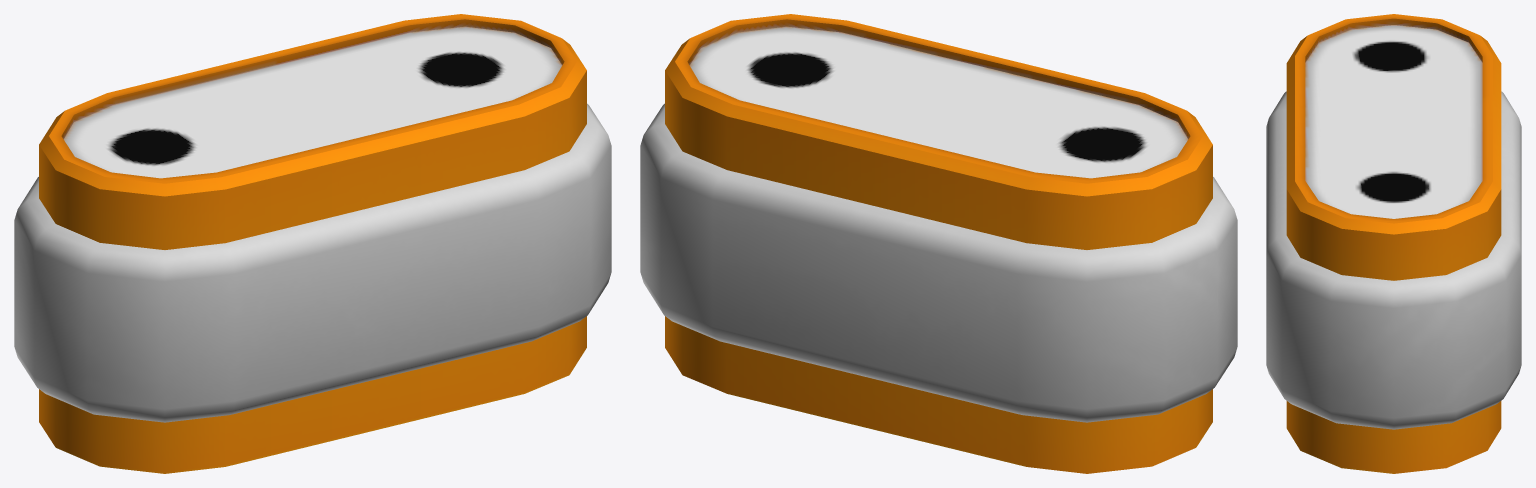
Rendered from block_round_corners.fbx.
The picture shows the model from 3 angles, left to right: view 1: azimuth 30°, elevation 25°; view 2: azimuth 150°, elevation 25°; view 3: azimuth 270°, elevation 25°; orthographic projection. The views are drawn at different scales.
Parts seen in each view (by area): view 1: block_round_corners, rubber_band; view 2: block_round_corners, rubber_band; view 3: block_round_corners, rubber_band.
Part boxes in pixels (left/top/right/bottom): block_round_corners: left=39, top=14, right=586, bottom=473; rubber_band: left=14, top=103, right=611, bottom=422; block_round_corners: left=665, top=14, right=1212, bottom=473; rubber_band: left=640, top=103, right=1237, bottom=422; block_round_corners: left=1286, top=14, right=1501, bottom=473; rubber_band: left=1266, top=91, right=1521, bottom=429.
Bounding box in the file's own units: 248 × 122 × 114.
1 material, 1 textured.
